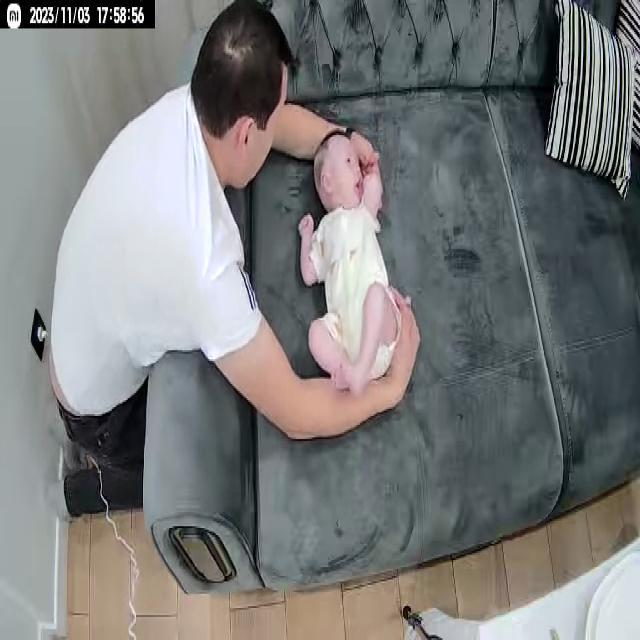baby: (296, 128, 402, 404)
